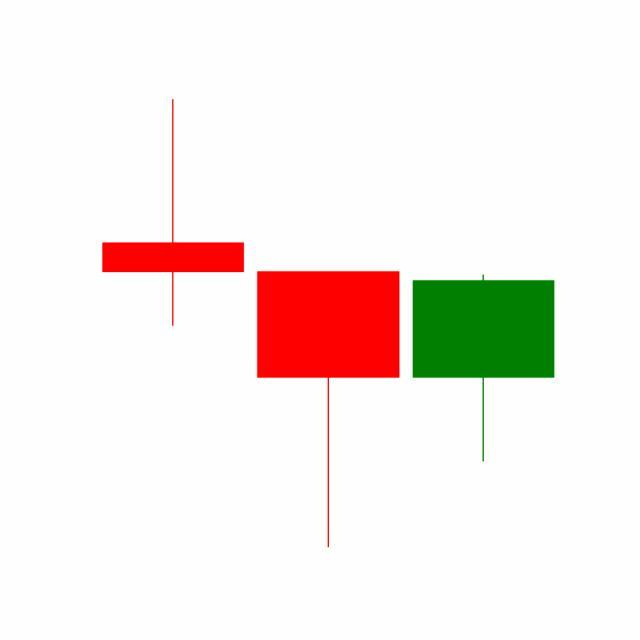Hammer: (250, 269, 407, 551)
